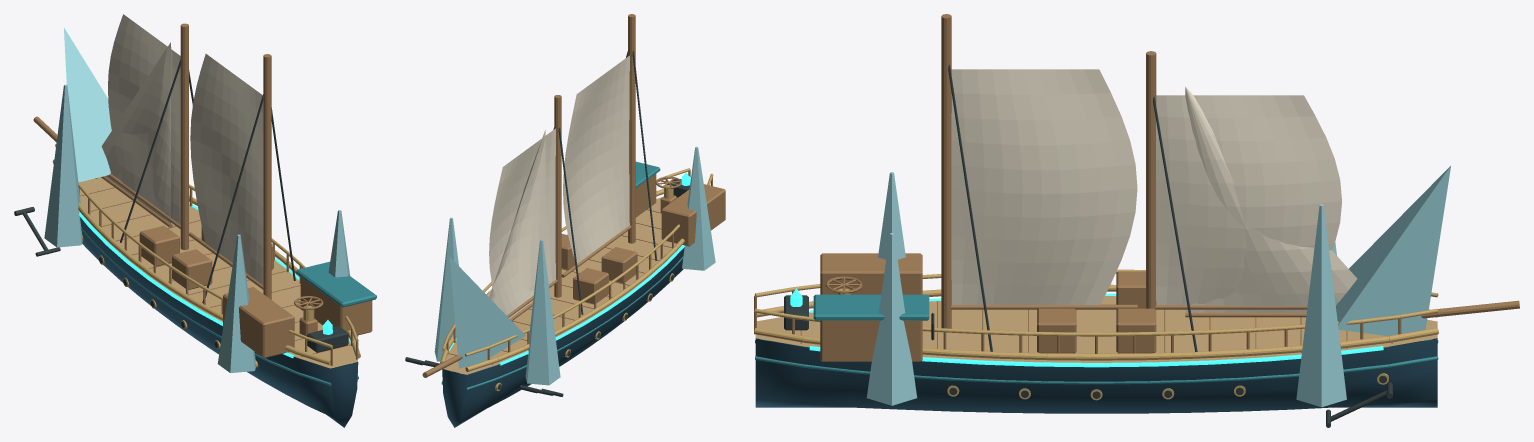
File: ship_schooner.glb
3 views of the same model, side by side, from view 1: azimuth 30°, elevation 25°; view 2: azimuth 150°, elevation 25°; view 3: azimuth 270°, elevation 25° (orthographic). The views are drawn at different scales.
Visible parts, largest first — view 1: ship_schooner; view 2: ship_schooner; view 3: ship_schooner.
Boxes of the visible parts, bbox=[...] form: ship_schooner: bbox=[14, 14, 376, 427]; ship_schooner: bbox=[405, 14, 725, 427]; ship_schooner: bbox=[754, 14, 1519, 427].
Bounding box in the file's own units: 3.86 × 7.6 × 13.47.
